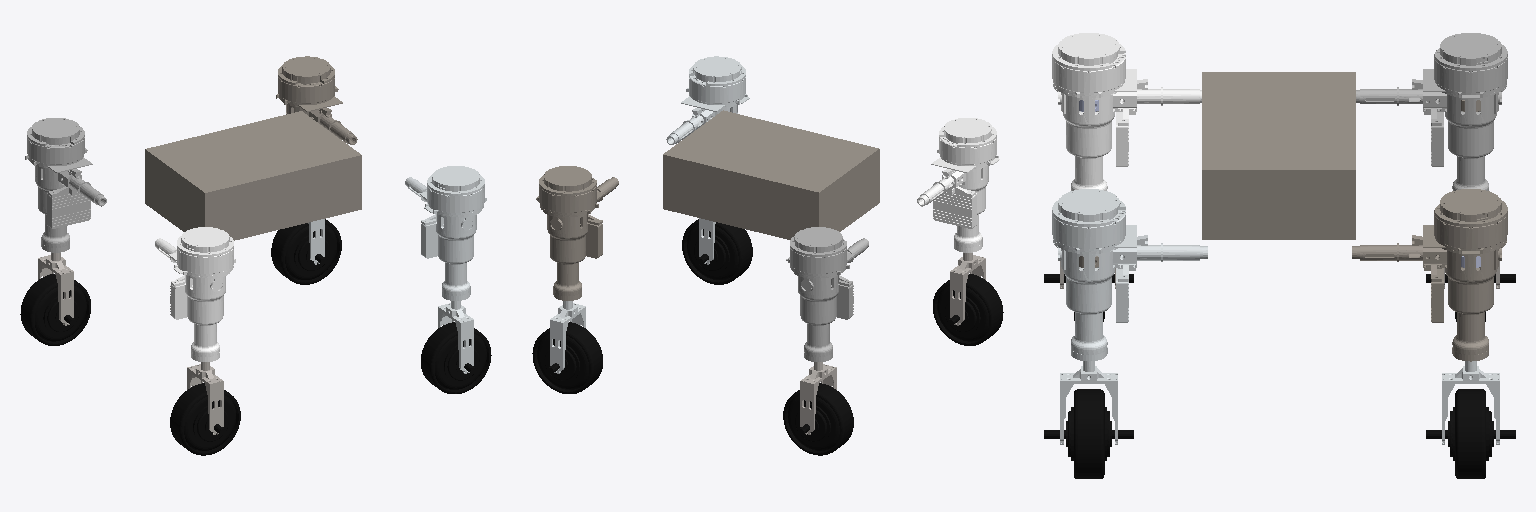
robot.urdf — kilin_robot_0115:
<?xml version="1.0" encoding="utf-8"?>
<!-- This URDF was automatically created by SolidWorks to URDF Exporter! Originally created by Stephen Brawner (brawner@gmail.com) 
     Commit Version: 1.6.0-4-g7f85cfe  Build Version: 1.6.7995.38578
     For more information, please see http://wiki.ros.org/sw_urdf_exporter -->
<robot
  name="kilin_robot_0115">

  <link
    name="base_link">
    <inertial>
      <origin
        xyz="-0.018256 0.0018454 0.011795"
        rpy="0 0 0" />
      <mass
        value="18.4057659" />
      <inertia
        ixx="0.2903534" 
        ixy="0.0011118" 
        ixz="0.0062007" 
        iyy="0.6199319" 
        iyz="-0.0000185" 
        izz="0.8012885" />
    </inertial>
    <visual>
      <origin
        xyz="0 0 0"
        rpy="0 0 0" />
      <geometry>
        <box size="0.3 0.2 0.1"/>
      </geometry>
      <material
        name="">
        <color
          rgba="0.64706 0.61961 0.58824 1" />
      </material>
    </visual>
    <collision>
      <origin
        xyz="0 0 0"
        rpy="0 0 0" />
      <geometry>
        <box size="0.3 0.2 0.1"/>
      </geometry>
    </collision>
  </link>

  <link
    name="FL_hip_link">
    <inertial>
      <origin
        xyz="-6.7288E-05 0.011399 0.097884"
        rpy="0 0 0" />
      <mass
        value="1.4192271" />
      <inertia
        ixx="0.0069868"
        ixy="-0.0000037"
        ixz="-0.0000051"
        iyy="0.0026687"
        iyz="0.0000690"
        izz="0.0053806" />
    </inertial>
    <visual>
      <origin
        xyz="0 0 0"
        rpy="0 0 0" />
      <geometry>
        <mesh
          filename="package://kilin_description/meshes/FL_hip_link.STL" />
      </geometry>
      <material
        name="">
        <color
          rgba="0.64706 0.61961 0.58824 1" />
      </material>
    </visual>
    <collision>
      <origin
        xyz="0 0 0"
        rpy="0 0 0" />
      <geometry>
        <mesh
          filename="package://kilin_description/meshes/FL_hip_link.STL" />
      </geometry>
    </collision>
  </link>
  <joint
    name="FL_hip"
    type="revolute">
    <origin
      xyz="0.24547 0.13115 -0.024737"
      rpy="-1.5708 0 0" />
    <parent
      link="base_link" />
    <child
      link="FL_hip_link" />
    <axis
      xyz="0 0 1" />
    <limit
      lower="-3.14"
      upper="3.14"
      effort="10"
      velocity="3" />
  </joint>
  <link
    name="FL_steering_link">
    <inertial>
      <origin
        xyz="-0.00042264 -0.0023919 0.012047"
        rpy="0 0 0" />
      <mass
        value=" 0.1476068" />
      <inertia
        ixx="0.0000787"
        ixy="0.0000001"
        ixz="-0.0000001"
        iyy="0.0000785"
        iyz="-0.0000001"
        izz="0.0000165" />
    </inertial>
    <visual>
      <origin
        xyz="0 0 0"
        rpy="0 0 0" />
      <geometry>
        <mesh
          filename="package://kilin_description/meshes/FL_steering_link.STL" />
      </geometry>
      <material
        name="">
        <color
          rgba="0.79216 0.81961 0.93333 1" />
      </material>
    </visual>
    <collision>
      <origin
        xyz="0 0 0"
        rpy="0 0 0" />
      <geometry>
        <mesh
          filename="package://kilin_description/meshes/FL_steering_link.STL" />
      </geometry>
    </collision>
  </link>
  <joint
    name="FL_steering"
    type="revolute">
    <origin
      xyz="0 0 0.118"
      rpy="1.5708 0 0" />
    <parent
      link="FL_hip_link" />
    <child
      link="FL_steering_link" />
    <axis
      xyz="0 0 1" />
    <limit
      lower="-3.14"
      upper="3.14"
      effort="10"
      velocity="3" />
  </joint>
  <link
    name="FL_suspension_link">
    <inertial>
      <origin
        xyz="-6.3455E-06 -1.7816E-06 -0.15093"
        rpy="0 0 0" />
      <mass
        value="0.2584073" />
      <inertia
        ixx="0.0008798"
        ixy="0.0000000"
        ixz="0.0000004"
        iyy="0.0007955"
        iyz="0.0000002"
        izz="0.0001056" />
    </inertial>
    <visual>
      <origin
        xyz="0 0 0"
        rpy="0 0 0" />
      <geometry>
        <mesh
          filename="package://kilin_description/meshes/FL_suspension_link.STL" />
      </geometry>
      <material
        name="">
        <color
          rgba="0.89804 0.91765 0.92941 1" />
      </material>
    </visual>
    <collision>
      <origin
        xyz="0 0 0"
        rpy="0 0 0" />
      <geometry>
        <mesh
          filename="package://kilin_description/meshes/FL_suspension_link.STL" />
      </geometry>
    </collision>
  </link>
  <joint
    name="FL_suspension"
    type="prismatic">
    <origin
      xyz="0 0 0"
      rpy="0 0 0" />
    <parent
      link="FL_steering_link" />
    <child
      link="FL_suspension_link" />
    <axis
      xyz="0 0 1" />
    <limit
      lower="0"
      upper="0.0195"
      effort="0"
      velocity="0" />
  </joint>
  <link
    name="FL_wheel_link">
    <inertial>
      <origin
        xyz="1.1102E-16 3.3307E-16 -3.3307E-16"
        rpy="0 0 0" />
      <mass
        value="1.6066304" />
      <inertia
        ixx="0.0013527"
        ixy="0.0000000"
        ixz="0.0000000"
        iyy="0.0013527"
        iyz="0.0000000"
        izz="0.0020388" />
    </inertial>
    <visual>
      <origin
        xyz="0 0 0"
        rpy="0 0 0" />
      <geometry>
        <mesh
          filename="package://kilin_description/meshes/FL_wheel_link.STL" />
      </geometry>
      <material
        name="">
        <color
          rgba="0.10196 0.10196 0.10196 1" />
      </material>
    </visual>
    <collision>
      <origin
        xyz="0 0 0"
        rpy="0 0 0" />
      <geometry>
        <mesh
          filename="package://kilin_description/meshes/FL_wheel_link.STL" />
      </geometry>
    </collision>
  </link>
  <joint
    name="FL_wheel"
    type="revolute">
    <origin
      xyz="0 0 -0.26"
      rpy="-1.5708 0 0" />
    <parent
      link="FL_suspension_link" />
    <child
      link="FL_wheel_link" />
    <axis
      xyz="0 0 1" />
    <limit
      lower="-30"
      upper="30"
      effort="5"
      velocity="3" />
  </joint>
  <link
    name="FR_hip_link">
    <inertial>
      <origin
        xyz="6.7287500730373E-05 0.0113994809236642 -0.0978835803330958"
        rpy="0 0 0" />
      <mass
        value="1.4192271" />
      <inertia
        ixx="0.0069868"
        ixy="0.0000037"
        ixz="-0.0000051"
        iyy="0.0026687"
        iyz="-0.0000690"
        izz="0.0053806" />
    </inertial>
    <visual>
      <origin
        xyz="0 0 0"
        rpy="0 0 0" />
      <geometry>
        <mesh
          filename="package://kilin_description/meshes/FR_hip_link.STL" />
      </geometry>
      <material
        name="">
        <color
          rgba="0.898039215686275 0.917647058823529 0.929411764705882 1" />
      </material>
    </visual>
    <collision>
      <origin
        xyz="0 0 0"
        rpy="0 0 0" />
      <geometry>
        <mesh
          filename="package://kilin_description/meshes/FR_hip_link.STL" />
      </geometry>
    </collision>
  </link>
  <joint
    name="FR_hip"
    type="revolute">
    <origin
      xyz="0.24547 -0.12885 -0.024737"
      rpy="-1.5708 0 0" />
    <parent
      link="base_link" />
    <child
      link="FR_hip_link" />
    <axis
      xyz="0 0 1" />
    <limit
      lower="-3.14"
      upper="3.14"
      effort="10"
      velocity="3" />
  </joint>
  <link
    name="FR__steering_link">
    <inertial>
      <origin
        xyz="0.000422640037611832 0.00239185393046065 0.0120471187970914"
        rpy="0 0 0" />
      <mass
        value=" 0.1476068" />
      <inertia
        ixx="0.0000787"
        ixy="0.0000001"
        ixz="0.0000001"
        iyy="0.0000785"
        iyz="0.0000001"
        izz="0.0000165" />
    </inertial>
    <visual>
      <origin
        xyz="0 0 0"
        rpy="0 0 0" />
      <geometry>
        <mesh
          filename="package://kilin_description/meshes/FR__steering_link.STL" />
      </geometry>
      <material
        name="">
        <color
          rgba="0.647058823529412 0.619607843137255 0.588235294117647 1" />
      </material>
    </visual>
    <collision>
      <origin
        xyz="0 0 0"
        rpy="0 0 0" />
      <geometry>
        <mesh
          filename="package://kilin_description/meshes/FR__steering_link.STL" />
      </geometry>
    </collision>
  </link>
  <joint
    name="FR_steering"
    type="revolute">
    <origin
      xyz="0 0 -0.118"
      rpy="1.5708 0 0" />
    <parent
      link="FR_hip_link" />
    <child
      link="FR__steering_link" />
    <axis
      xyz="0 0 1" />
    <limit
      lower="-3.14"
      upper="3.14"
      effort="10"
      velocity="3" />
  </joint>
  <link
    name="FR_suspension_link">
    <inertial>
      <origin
        xyz="6.34553769052193E-06 1.78159153912949E-06 -0.150928743812754"
        rpy="0 0 0" />
       <mass
        value="0.2584073" />
      <inertia
        ixx="0.0008798"
        ixy="0.0000000"
        ixz="-0.0000004"
        iyy="0.0007955"
        iyz="-0.0000002"
        izz="0.0001056" />
    </inertial>
    <visual>
      <origin
        xyz="0 0 0"
        rpy="0 0 0" />
      <geometry>
        <mesh
          filename="package://kilin_description/meshes/FR_suspension_link.STL" />
      </geometry>
      <material
        name="">
        <color
          rgba="0.898039215686275 0.917647058823529 0.929411764705882 1" />
      </material>
    </visual>
    <collision>
      <origin
        xyz="0 0 0"
        rpy="0 0 0" />
      <geometry>
        <mesh
          filename="package://kilin_description/meshes/FR_suspension_link.STL" />
      </geometry>
    </collision>
  </link>
  <joint
    name="FR_suspension"
    type="prismatic">
    <origin
      xyz="0 0 0"
      rpy="0 0 0" />
    <parent
      link="FR__steering_link" />
    <child
      link="FR_suspension_link" />
    <axis
      xyz="0 0 1" />
    <limit
      lower="0"
      upper="0.0195"
      effort="0"
      velocity="0" />
  </joint>
  <link
    name="FR_wheel_link">
    <inertial>
      <origin
        xyz="-2.22044604925031E-16 -2.77555756156289E-16 0"
        rpy="0 0 0" />
      <mass
        value="1.6066304" />
      <inertia
        ixx="0.0013527"
        ixy="0.0000000"
        ixz="0.0000000"
        iyy="0.0013527"
        iyz="0.0000000"
        izz="0.0020388" />
    </inertial>
    <visual>
      <origin
        xyz="0 0 0"
        rpy="0 0 0" />
      <geometry>
        <mesh
          filename="package://kilin_description/meshes/FR_wheel_link.STL" />
      </geometry>
      <material
        name="">
        <color
          rgba="0.101960784313725 0.101960784313725 0.101960784313725 1" />
      </material>
    </visual>
    <collision>
      <origin
        xyz="0 0 0"
        rpy="0 0 0" />
      <geometry>
        <mesh
          filename="package://kilin_description/meshes/FR_wheel_link.STL" />
      </geometry>
    </collision>
  </link>
  <joint
    name="FR_wheel"
    type="revolute">
    <origin
      xyz="0 0 -0.26"
      rpy="-1.5708 0 0" />
    <parent
      link="FR_suspension_link" />
    <child
      link="FR_wheel_link" />
    <axis
      xyz="0 0 1" />
    <limit
      lower="-30"
      upper="30"
      effort="5"
      velocity="3" />
  </joint>
  <link
    name="RL_hip_link">
    <inertial>
      <origin
        xyz="-6.72875007298873E-05 0.0113994809236646 0.0978835803330976"
        rpy="0 0 0" />
        <mass
        value="1.4192271" />
      <inertia
        ixx="0.0069868"
        ixy="-0.0000037"
        ixz="-0.0000051"
        iyy="0.0026687"
        iyz="0.0000690"
        izz="0.0053806" />
    </inertial>
    <visual>
      <origin
        xyz="0 0 0"
        rpy="0 0 0" />
      <geometry>
        <mesh
          filename="package://kilin_description/meshes/RL_hip_link.STL" />
      </geometry>
      <material
        name="">
        <color
          rgba="0.752941176470588 0.752941176470588 0.752941176470588 1" />
      </material>
    </visual>
    <collision>
      <origin
        xyz="0 0 0"
        rpy="0 0 0" />
      <geometry>
        <mesh
          filename="package://kilin_description/meshes/RL_hip_link.STL" />
      </geometry>
    </collision>
  </link>
  <joint
    name="RL_hip"
    type="revolute">
    <origin
      xyz="-0.23453 0.13115 -0.024737"
      rpy="-1.5708 0 0" />
    <parent
      link="base_link" />
    <child
      link="RL_hip_link" />
    <axis
      xyz="0 0 1" />
    <limit
      lower="-3.14"
      upper="3.14"
      effort="10"
      velocity="3" />
  </joint>
  <link
    name="RL_steering_link">
    <inertial>
      <origin
        xyz="-0.000422639994594715 -0.00239185388588709 0.0120471200048065"
        rpy="0 0 0" />
      <mass
        value=" 0.1476068" />
      <inertia
        ixx="0.0000787"
        ixy="0.0000001"
        ixz="-0.0000001"
        iyy="0.0000785"
        iyz="-0.0000001"
        izz="0.0000165" />
    </inertial>
    <visual>
      <origin
        xyz="0 0 0"
        rpy="0 0 0" />
      <geometry>
        <mesh
          filename="package://kilin_description/meshes/RL_steering_link.STL" />
      </geometry>
      <material
        name="">
        <color
          rgba="0.647058823529412 0.619607843137255 0.588235294117647 1" />
      </material>
    </visual>
    <collision>
      <origin
        xyz="0 0 0"
        rpy="0 0 0" />
      <geometry>
        <mesh
          filename="package://kilin_description/meshes/RL_steering_link.STL" />
      </geometry>
    </collision>
  </link>
  <joint
    name="RL_steering"
    type="revolute">
    <origin
      xyz="0 0 0.118"
      rpy="1.5708 0 0" />
    <parent
      link="RL_hip_link" />
    <child
      link="RL_steering_link" />
    <axis
      xyz="0 0 1" />
    <limit
      lower="-3.14"
      upper="3.14"
      effort="10"
      velocity="3" />
  </joint>
  <link
    name="RL_suspension_link">
    <inertial>
      <origin
        xyz="-6.34553768619206E-06 -1.78159153915725E-06 -0.150928743812755"
        rpy="0 0 0" />
       <mass
        value="0.2584073" />
      <inertia
        ixx="0.0008798"
        ixy="0.0000000"
        ixz="0.0000004"
        iyy="0.0007955"
        iyz="0.0000002"
        izz="0.0001056" />
    </inertial>
    <visual>
      <origin
        xyz="0 0 0"
        rpy="0 0 0" />
      <geometry>
        <mesh
          filename="package://kilin_description/meshes/RL_suspension_link.STL" />
      </geometry>
      <material
        name="">
        <color
          rgba="0.776470588235294 0.756862745098039 0.737254901960784 1" />
      </material>
    </visual>
    <collision>
      <origin
        xyz="0 0 0"
        rpy="0 0 0" />
      <geometry>
        <mesh
          filename="package://kilin_description/meshes/RL_suspension_link.STL" />
      </geometry>
    </collision>
  </link>
  <joint
    name="RL_suspension"
    type="prismatic">
    <origin
      xyz="0 0 0"
      rpy="0 0 0" />
    <parent
      link="RL_steering_link" />
    <child
      link="RL_suspension_link" />
    <axis
      xyz="0 0 1" />
    <limit
      lower="0"
      upper="0.0195"
      effort="0"
      velocity="0" />
  </joint>
  <link
    name="RL_wheel_link">
    <inertial>
      <origin
        xyz="2.4980018054066E-16 1.38777878078145E-17 2.77555756156289E-17"
        rpy="0 0 0" />
      <mass
        value="1.6066304" />
      <inertia
        ixx="0.0013527"
        ixy="0.0000000"
        ixz="0.0000000"
        iyy="0.0013527"
        iyz="0.0000000"
        izz="0.0020388" />
    </inertial>
    <visual>
      <origin
        xyz="0 0 0"
        rpy="0 0 0" />
      <geometry>
        <mesh
          filename="package://kilin_description/meshes/RL_wheel_link.STL" />
      </geometry>
      <material
        name="">
        <color
          rgba="0.101960784313725 0.101960784313725 0.101960784313725 1" />
      </material>
    </visual>
    <collision>
      <origin
        xyz="0 0 0"
        rpy="0 0 0" />
      <geometry>
        <mesh
          filename="package://kilin_description/meshes/RL_wheel_link.STL" />
      </geometry>
    </collision>
  </link>
  <joint
    name="RL_wheel"
    type="revolute">
    <origin
      xyz="0 0 -0.26"
      rpy="-1.5708 0 0" />
    <parent
      link="RL_suspension_link" />
    <child
      link="RL_wheel_link" />
    <axis
      xyz="0 0 1" />
    <limit
      lower="-30"
      upper="30"
      effort="5"
      velocity="3" />
  </joint>
  <link
    name="RR_hip_link">
    <inertial>
      <origin
        xyz="0 0 0"
        rpy="0 0 0" />
     <mass
        value="1.4192271" />
      <inertia
        ixx="0.0069868"
        ixy="0.0000037"
        ixz="-0.0000051"
        iyy="0.0026687"
        iyz="-0.0000690"
        izz="0.0053806" />
    </inertial>
    <visual>
      <origin
        xyz="0 0 0"
        rpy="0 0 0" />
      <geometry>
        <mesh
          filename="package://kilin_description/meshes/RR_hip_link.STL" />
      </geometry>
      <material
        name="">
        <color
          rgba="1 1 1 1" />
      </material>
    </visual>
    <collision>
      <origin
        xyz="0 0 0"
        rpy="0 0 0" />
      <geometry>
        <mesh
          filename="package://kilin_description/meshes/RR_hip_link.STL" />
      </geometry>
    </collision>
  </link>
  <joint
    name="RR_hip"
    type="revolute">
    <origin
      xyz="-0.23453 -0.12885 -0.024737"
      rpy="-1.5708 0 0" />
    <parent
      link="base_link" />
    <child
      link="RR_hip_link" />
    <axis
      xyz="0 0 1" />
    <limit
      lower="-3.14"
      upper="3.14"
      effort="10"
      velocity="3" />
  </joint>
  <link
    name="RR_steering_link">
    <inertial>
      <origin
        xyz="0.00042264000235348 0.00239185388945912 0.0120471196587657"
        rpy="0 0 0" />
       <mass
        value=" 0.1476068" />
      <inertia
        ixx="0.0000787"
        ixy="0.0000001"
        ixz="0.0000001"
        iyy="0.0000785"
        iyz="0.0000001"
        izz="0.0000165" />
    </inertial>
    <visual>
      <origin
        xyz="0 0 0"
        rpy="0 0 0" />
      <geometry>
        <mesh
          filename="package://kilin_description/meshes/RR_steering_link.STL" />
      </geometry>
      <material
        name="">
        <color
          rgba="0.792156862745098 0.819607843137255 0.933333333333333 1" />
      </material>
    </visual>
    <collision>
      <origin
        xyz="0 0 0"
        rpy="0 0 0" />
      <geometry>
        <mesh
          filename="package://kilin_description/meshes/RR_steering_link.STL" />
      </geometry>
    </collision>
  </link>
  <joint
    name="RR_steering"
    type="revolute">
    <origin
      xyz="0 0 -0.118"
      rpy="1.5708 0 0" />
    <parent
      link="RR_hip_link" />
    <child
      link="RR_steering_link" />
    <axis
      xyz="0 0 1" />
    <limit
      lower="-3.14"
      upper="3.14"
      effort="10"
      velocity="3" />
  </joint>
  <link
    name="RR_suspension_link">
    <inertial>
      <origin
        xyz="6.34553768659452E-06 1.78159153935153E-06 -0.150928743812754"
        rpy="0 0 0" />
      <mass
        value="0.2584073" />
      <inertia
        ixx="0.0008798"
        ixy="0.0000000"
        ixz="-0.0000004"
        iyy="0.0007955"
        iyz="-0.0000002"
        izz="0.0001056" />
    </inertial>
    <visual>
      <origin
        xyz="0 0 0"
        rpy="0 0 0" />
      <geometry>
        <mesh
          filename="package://kilin_description/meshes/RR_suspension_link.STL" />
      </geometry>
      <material
        name="">
        <color
          rgba="0.776470588235294 0.756862745098039 0.737254901960784 1" />
      </material>
    </visual>
    <collision>
      <origin
        xyz="0 0 0"
        rpy="0 0 0" />
      <geometry>
        <mesh
          filename="package://kilin_description/meshes/RR_suspension_link.STL" />
      </geometry>
    </collision>
  </link>
  <joint
    name="RR_suspension"
    type="prismatic">
    <origin
      xyz="0 0 0"
      rpy="0 0 0" />
    <parent
      link="RR_steering_link" />
    <child
      link="RR_suspension_link" />
    <axis
      xyz="0 0 1" />
    <limit
      lower="0"
      upper="0.0195"
      effort="0"
      velocity="0" />
  </joint>
  <link
    name="RR_wheel_link">
    <inertial>
      <origin
        xyz="1.80411241501588E-16 -3.19189119579733E-16 5.55111512312578E-17"
        rpy="0 0 0" />
     <mass
        value="1.6066304" />
      <inertia
        ixx="0.0013527"
        ixy="0.0000000"
        ixz="0.0000000"
        iyy="0.0013527"
        iyz="0.0000000"
        izz="0.0020388" />
    </inertial>
    <visual>
      <origin
        xyz="0 0 0"
        rpy="0 0 0" />
      <geometry>
        <mesh
          filename="package://kilin_description/meshes/RR_wheel_link.STL" />
      </geometry>
      <material
        name="">
        <color
          rgba="0.101960784313725 0.101960784313725 0.101960784313725 1" />
      </material>
    </visual>
    <collision>
      <origin
        xyz="0 0 0"
        rpy="0 0 0" />
      <geometry>
        <mesh
          filename="package://kilin_description/meshes/RR_wheel_link.STL" />
      </geometry>
    </collision>
  </link>
  <joint
    name="RR_wheel"
    type="revolute">
    <origin
      xyz="0 0 -0.26"
      rpy="-1.5708 0 0" />
    <parent
      link="RR_suspension_link" />
    <child
      link="RR_wheel_link" />
    <axis
      xyz="0 0 1" />
    <limit
      lower="-30"
      upper="30"
      effort="5"
      velocity="3" />
  </joint>
</robot>

--- Render facts (derived) ---
The picture shows the robot from 3 angles, left to right: view 1: azimuth 30°, elevation 25°; view 2: azimuth 150°, elevation 25°; view 3: azimuth 270°, elevation 25°; orthographic projection.
Robot: kilin_robot_0115 — 17 links, 16 joints (12 revolute, 4 prismatic); root link base_link; default pose: all joints at 0.
Visible links, largest first — view 1: base_link, RL_hip_link, RR_hip_link, FR_hip_link, FL_hip_link, RR_wheel_link, FR_wheel_link, RL_wheel_link, FL_wheel_link, RR_suspension_link, FR_suspension_link, RL_suspension_link (+1 smaller); view 2: base_link, RR_hip_link, RL_hip_link, FL_hip_link, FR_hip_link, RL_wheel_link, RR_wheel_link, FL_wheel_link, FR_wheel_link, RL_suspension_link, FL_suspension_link, RR_suspension_link (+1 smaller); view 3: base_link, FR_hip_link, FL_hip_link, RL_hip_link, RR_hip_link, FL_wheel_link, FR_wheel_link, FL_suspension_link, FR_suspension_link.
Boxes of the visible links, x1,y1,x2,y2 form: base_link: (145,111,361,240); RL_hip_link: (25,118,106,252); RR_hip_link: (155,227,235,361); FR_hip_link: (405,166,486,300); FL_hip_link: (276,56,357,144); RR_wheel_link: (170,383,240,455); FR_wheel_link: (421,322,491,393); RL_wheel_link: (20,274,90,345); FL_wheel_link: (271,219,341,284); RR_suspension_link: (187,362,223,434); FR_suspension_link: (438,301,473,373); RL_suspension_link: (38,253,73,325); base_link: (663,110,879,239); RR_hip_link: (917,118,999,252); RL_hip_link: (786,227,868,361); FL_hip_link: (536,166,618,300); FR_hip_link: (666,56,749,144); RL_wheel_link: (783,383,853,455); RR_wheel_link: (933,274,1003,345); FL_wheel_link: (532,322,602,393); FR_wheel_link: (682,219,752,284); RL_suspension_link: (800,362,836,434); FL_suspension_link: (550,301,585,373); RR_suspension_link: (950,253,985,325); base_link: (1202,72,1355,239); FR_hip_link: (1052,189,1207,361); FL_hip_link: (1352,189,1507,361); RL_hip_link: (1356,33,1507,190); RR_hip_link: (1052,33,1201,190); FL_wheel_link: (1426,389,1515,478); FR_wheel_link: (1044,389,1133,478); FL_suspension_link: (1442,361,1499,444); FR_suspension_link: (1060,361,1117,444).
Bounding box of the posed robot: 0.597 × 0.612 × 0.3932 m (x, y, z).
Meshes: 16 distinct files referenced, 16 mesh visuals loaded (16 binary STL).
